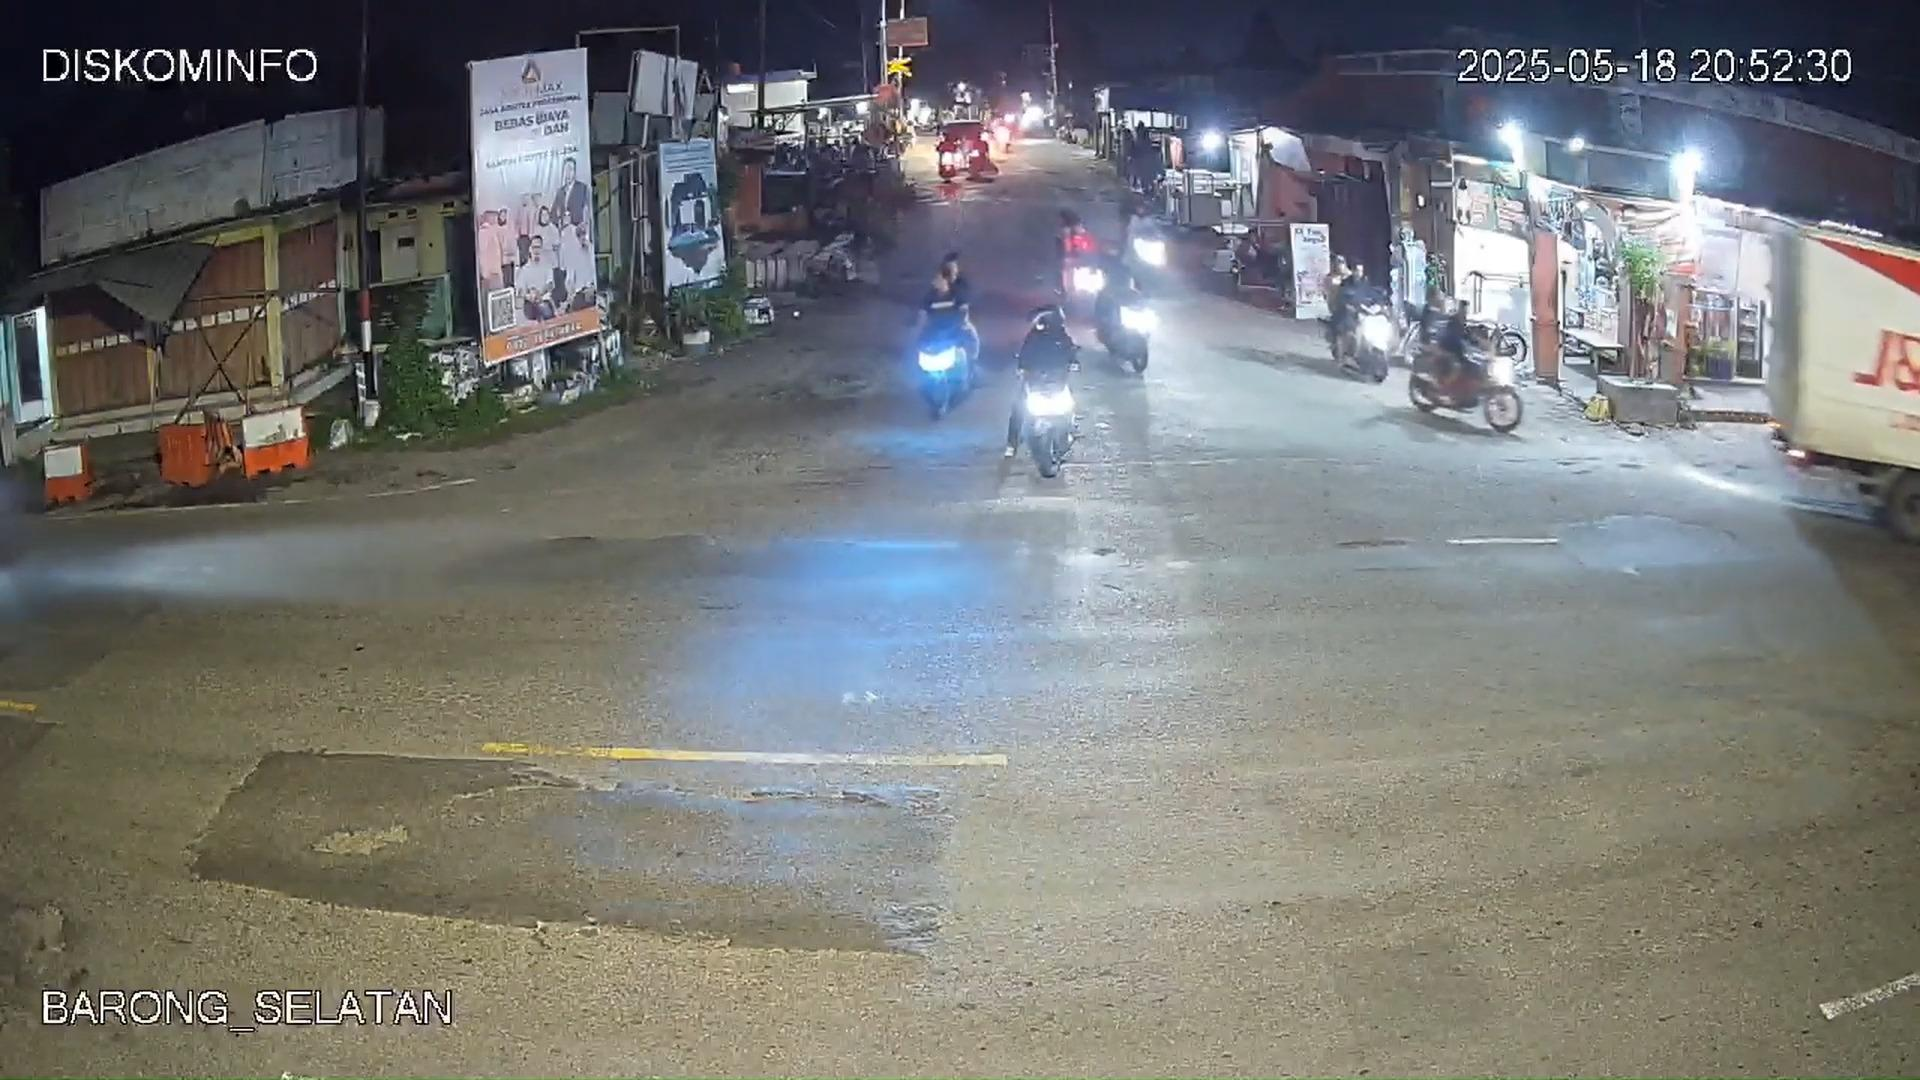Motor: (1412, 313, 1530, 435), (1005, 302, 1079, 463), (915, 248, 975, 396), (1089, 257, 1155, 376), (1328, 290, 1396, 381)
Truck: (1760, 216, 1919, 549)
mobil: (935, 121, 994, 181)
